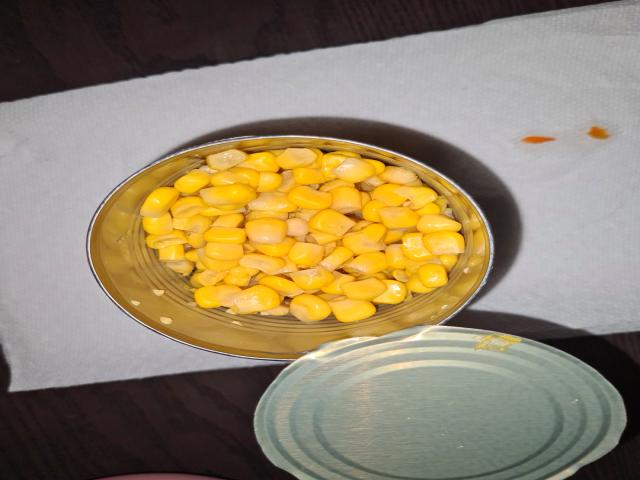kichen waste: (140, 150, 463, 321)
